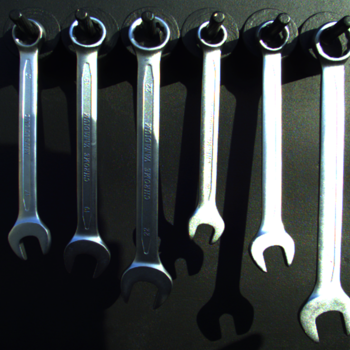bottom: (296, 289, 350, 346), (116, 259, 173, 311), (61, 234, 111, 281), (246, 227, 297, 273), (6, 218, 54, 261), (184, 209, 227, 245)
top: (124, 13, 172, 55), (64, 13, 110, 54), (314, 18, 350, 67), (8, 15, 48, 54), (255, 16, 292, 53), (194, 18, 229, 49)
